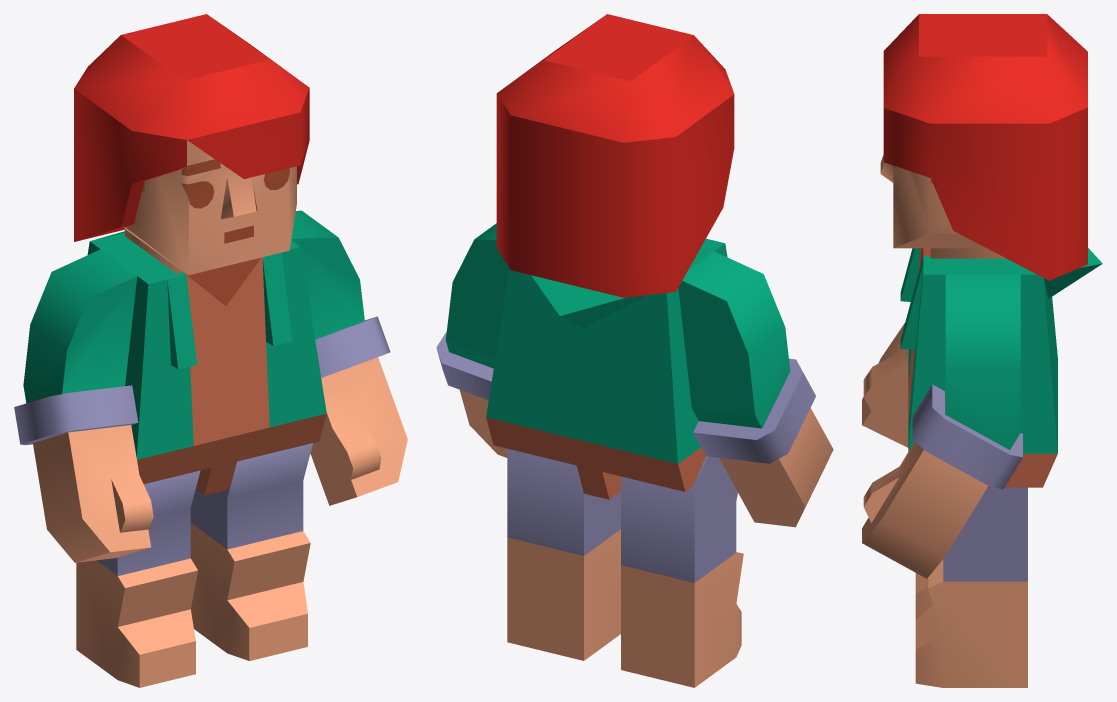
The model's file is type-2 woman.fbx.
The picture shows the model from 3 angles, left to right: view 1: azimuth 30°, elevation 25°; view 2: azimuth 150°, elevation 25°; view 3: azimuth 270°, elevation 25°; orthographic projection. The views are drawn at different scales.
Parts seen in each view (by area): view 1: mergedBlocks; view 2: mergedBlocks; view 3: mergedBlocks.
Part boxes in pixels (x1,y1,x2,y2): mergedBlocks: (14,14,407,687); mergedBlocks: (436,14,833,687); mergedBlocks: (862,14,1102,687).
Bounding box in the file's own units: 5.4 × 8.96 × 3.22.
